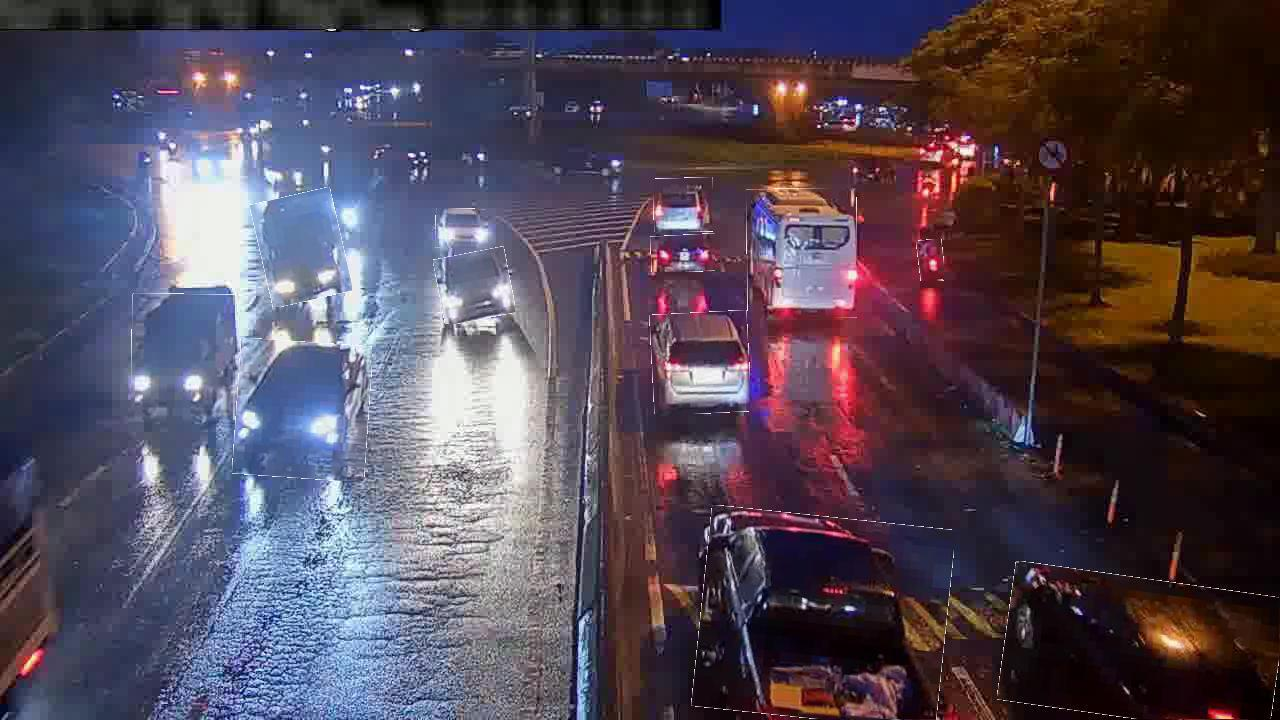14: (746, 189, 858, 319)
8: (132, 294, 236, 421), (256, 191, 348, 305)
container: (696, 511, 951, 719), (1001, 570, 1279, 719), (235, 340, 371, 480), (651, 311, 750, 414), (436, 249, 514, 322), (654, 178, 714, 232), (651, 234, 716, 273), (436, 209, 486, 249)
motorbike: (917, 240, 944, 282)
